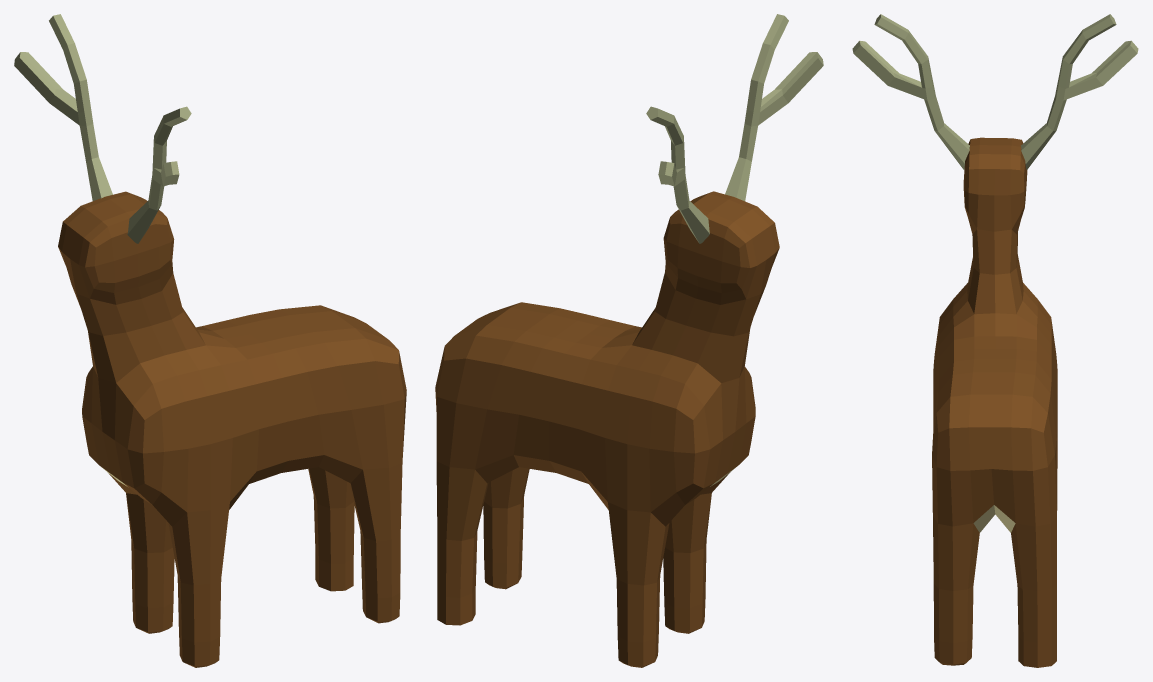
The model's file is Deer.glb.
The picture shows the model from 3 angles, left to right: view 1: azimuth 30°, elevation 25°; view 2: azimuth 150°, elevation 25°; view 3: azimuth 270°, elevation 25°; orthographic projection. The views are drawn at different scales.
Visible parts, largest first — view 1: Body, Antlers; view 2: Body, Antlers; view 3: Body, Antlers.
Boxes of the visible parts, x1=… form: Body: x1=58, y1=191, x2=406, y2=667; Antlers: x1=14, y1=14, x2=191, y2=243; Body: x1=435, y1=191, x2=779, y2=667; Antlers: x1=646, y1=14, x2=823, y2=243; Body: x1=932, y1=137, x2=1057, y2=667; Antlers: x1=852, y1=14, x2=1138, y2=169.
Bounding box in the file's own units: 1.29 × 2.35 × 1.13.
